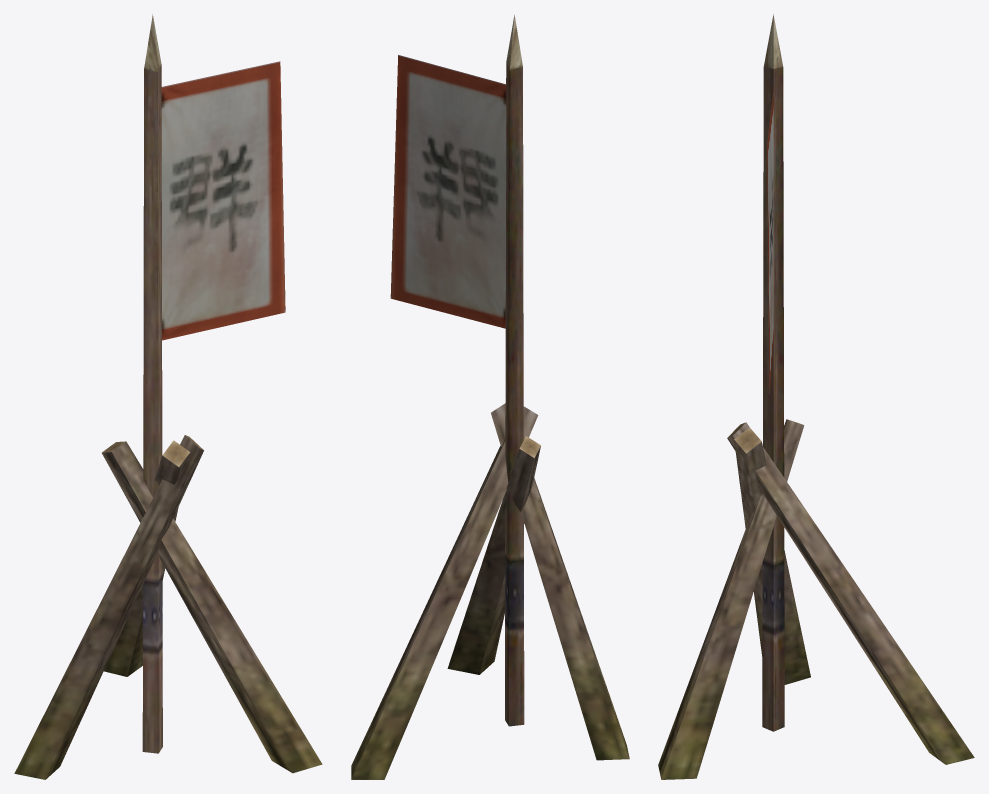
Rendered from qigan01_L.fbx.
3 views of the same model, side by side, from view 1: azimuth 30°, elevation 25°; view 2: azimuth 150°, elevation 25°; view 3: azimuth 270°, elevation 25° (orthographic). The views are drawn at different scales.
Parts seen in each view (by area): view 1: qigan01_L; view 2: qigan01_L; view 3: qigan01_L.
Part boxes in pixels (box(x1,y1,x2,y2)): qigan01_L: box(14, 14, 322, 779); qigan01_L: box(351, 15, 629, 779); qigan01_L: box(658, 14, 974, 779).
Bounding box in the file's own units: 2.45 × 6.63 × 2.67.
